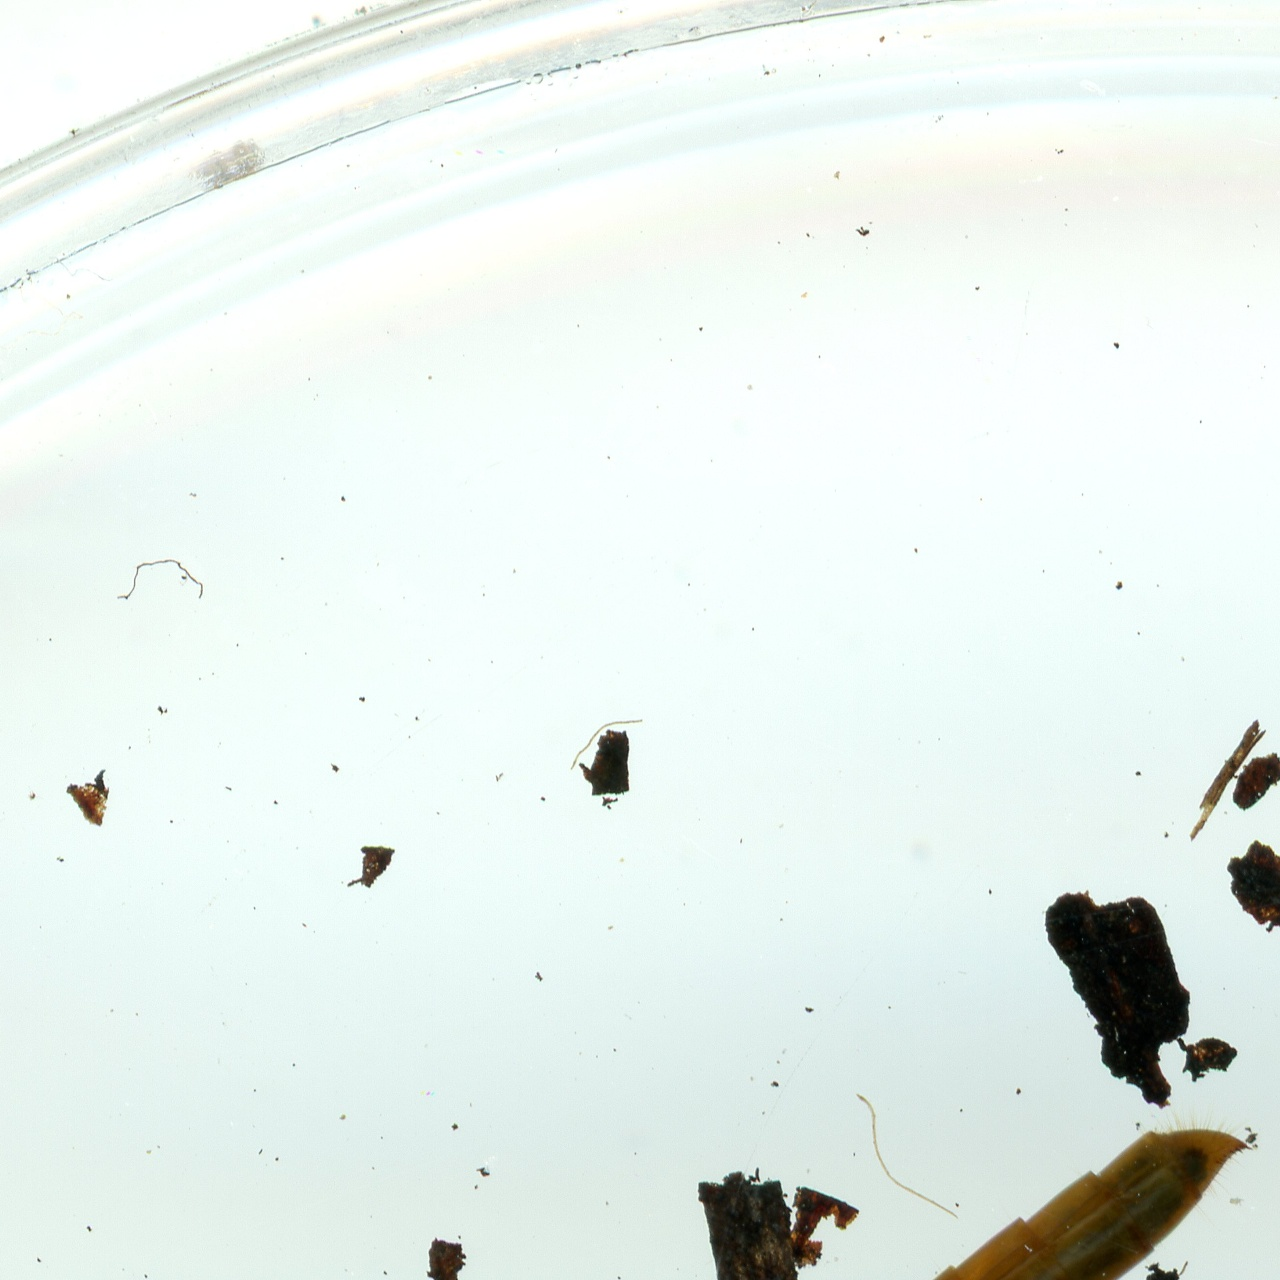arthropod: (618, 1123, 1251, 1280)
